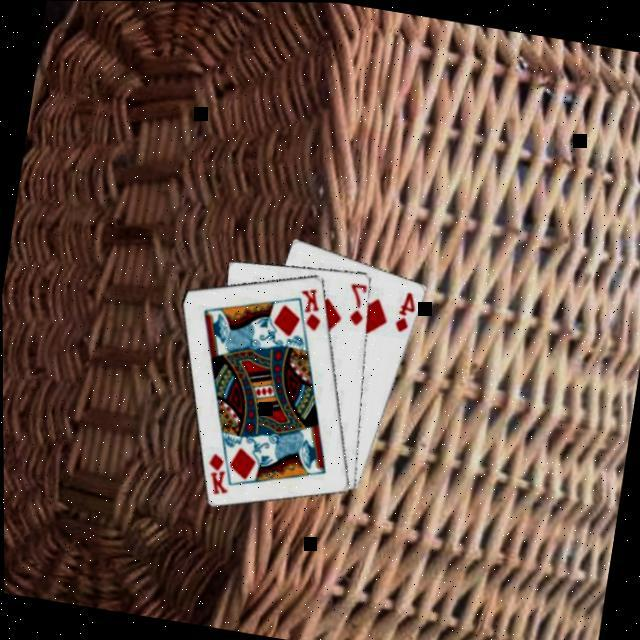4D: (392, 288, 422, 337)
7D: (344, 280, 372, 330)
KD: (294, 284, 330, 336), (202, 449, 238, 500)
